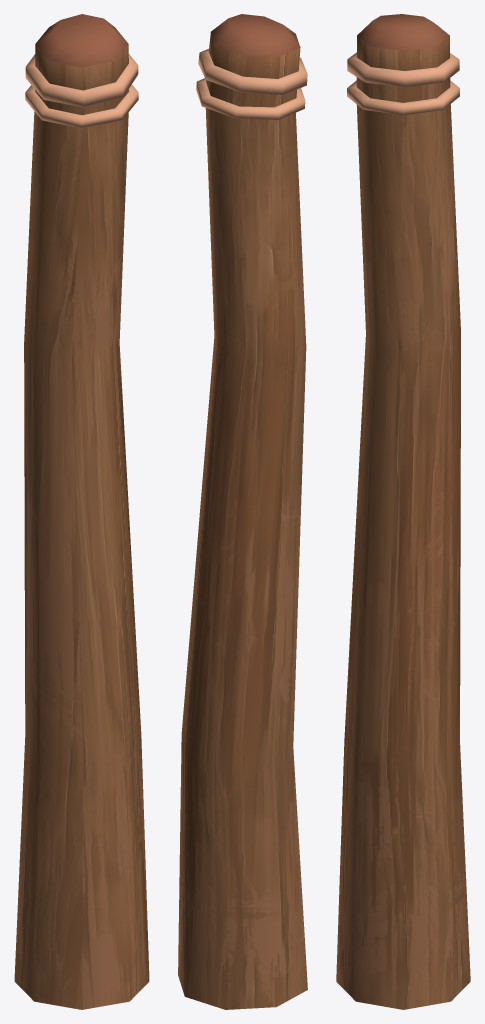
File: Pillar_1.fbx
3 views of the same model, side by side, from view 1: azimuth 90°, elevation 25°; view 2: azimuth 210°, elevation 25°; view 3: azimuth 270°, elevation 25° (orthographic).
Parts seen in each view (by area): view 1: Pillar_1; view 2: Pillar_1; view 3: Pillar_1.
Part boxes in pixels (<box>): Pillar_1: <box>14,14,149,1009</box>; Pillar_1: <box>178,14,307,1009</box>; Pillar_1: <box>336,14,470,1009</box>.
Size of the model in its own units: 0.2639 by 2.07 by 0.2629.
